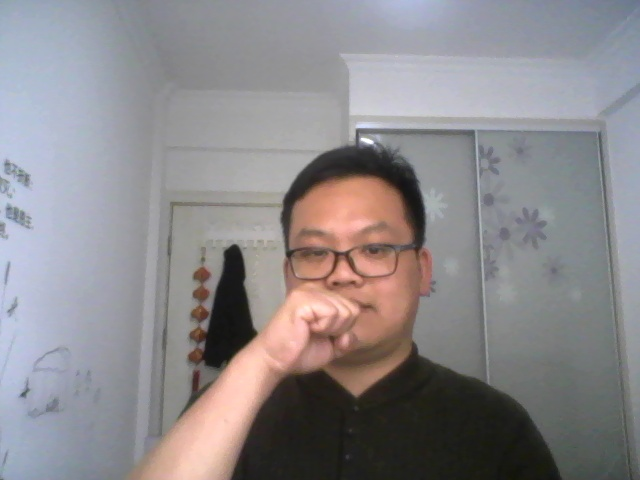Yes: (254, 273, 369, 379)
